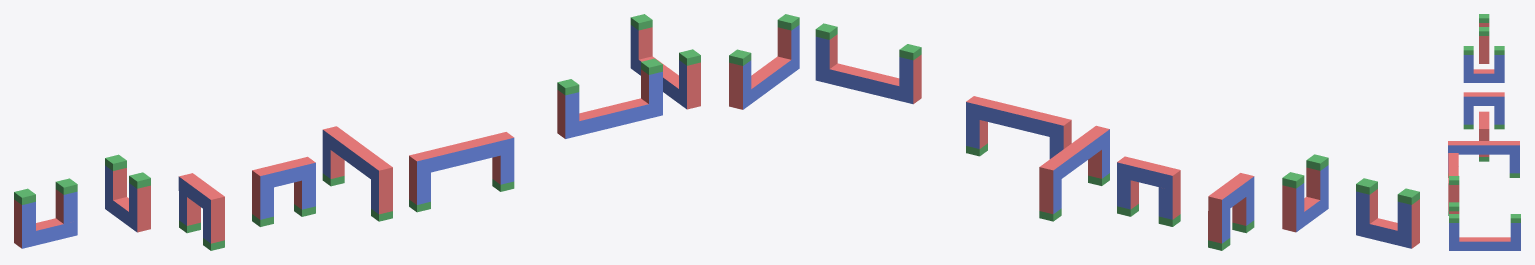
The model's file is disjoint_y_gadgets.dae.
3 views of the same model, side by side, from view 1: azimuth 30°, elevation 25°; view 2: azimuth 150°, elevation 25°; view 3: azimuth 270°, elevation 25° (orthographic). The views are drawn at different scales.
Parts seen in each view (by area): view 1: xzo (×14), ozx (×6); view 2: xzo (×13), ozx (×6); view 3: ozx (×15), xzo (×10), xzx (×16), Y (×12), zzx (×5).
Part boxes in pixels (<box>): xzo (×14): <box>22,27,700,243</box>; ozx (×6): <box>36,104,648,245</box>; xzo (×13): <box>729,27,1411,243</box>; ozx (×6): <box>829,69,1397,245</box>; ozx (×15): <box>1448,69,1510,250</box>; xzo (×10): <box>1449,36,1520,241</box>; xzx (×16): <box>1448,54,1520,250</box>; Y (×12): <box>1449,14,1520,222</box>; zzx (×5): <box>1448,141,1489,250</box>.
Size of the model in its own units: 47.06 by 7.08 by 6.
